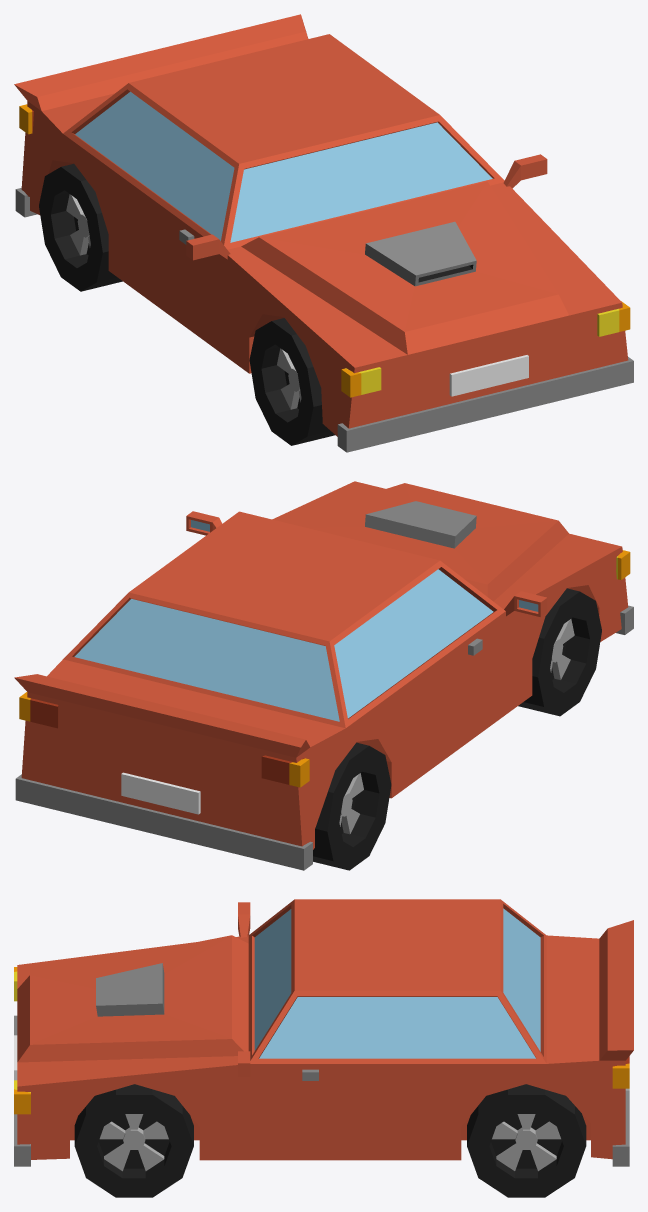
File: Car.glb
3 views of the same model, one above another, from view 1: azimuth 30°, elevation 25°; view 2: azimuth 150°, elevation 25°; view 3: azimuth 270°, elevation 25° (orthographic). The views are drawn at different scales.
Visible parts, largest first — view 1: Cube; view 2: Cube; view 3: Cube.
Boxes of the visible parts, bbox=[...] form: Cube: bbox=[14, 14, 633, 452]; Cube: bbox=[14, 481, 633, 870]; Cube: bbox=[14, 899, 633, 1197].
Size of the model in its own units: 2.51 by 1.36 by 4.08.
1 material, 1 textured.
